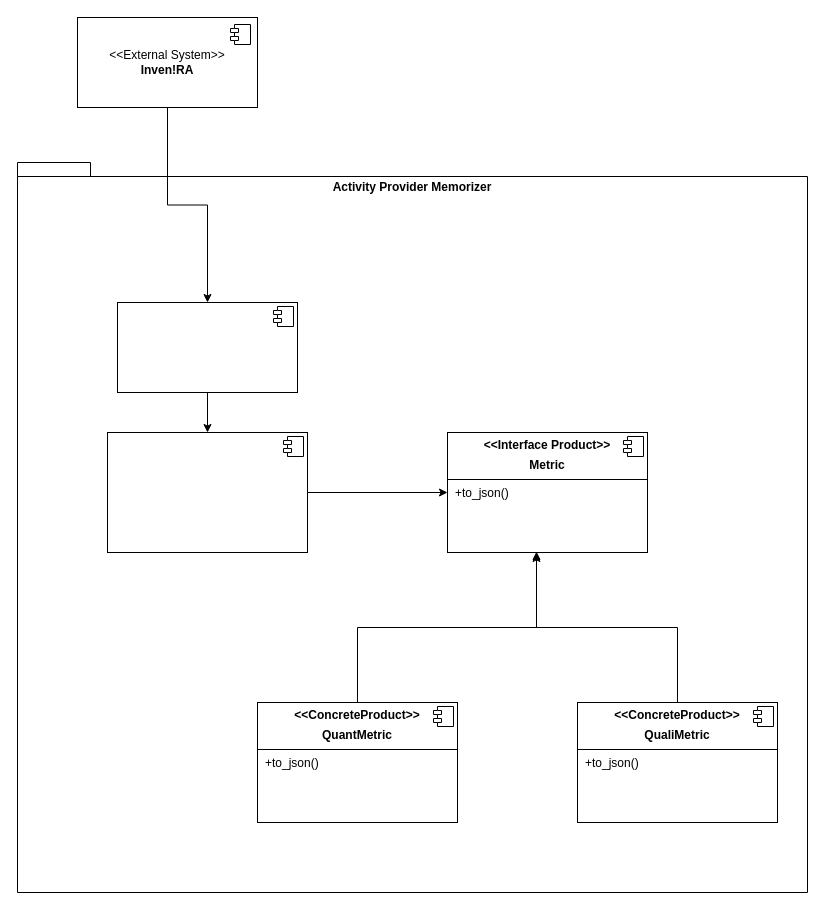
Image size: 825x910. Some labels were removed from this diagram. Here are the shapes that lost their labels. From the top down, the box of each, then its label:
(116, 302, 298, 392): AnalyticsController +post_analytics(data)
(106, 432, 308, 552): <<Creator>> MetricFactory +create_metric(type, value) : : IMetric
